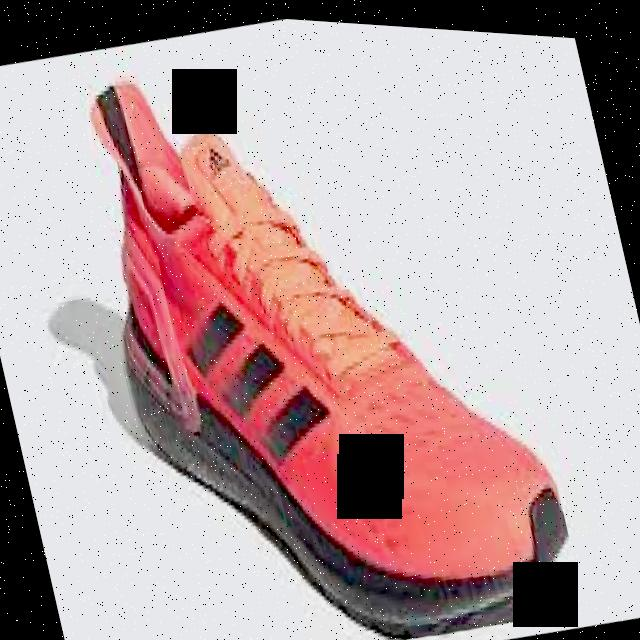shoe: (57, 3, 585, 640)
